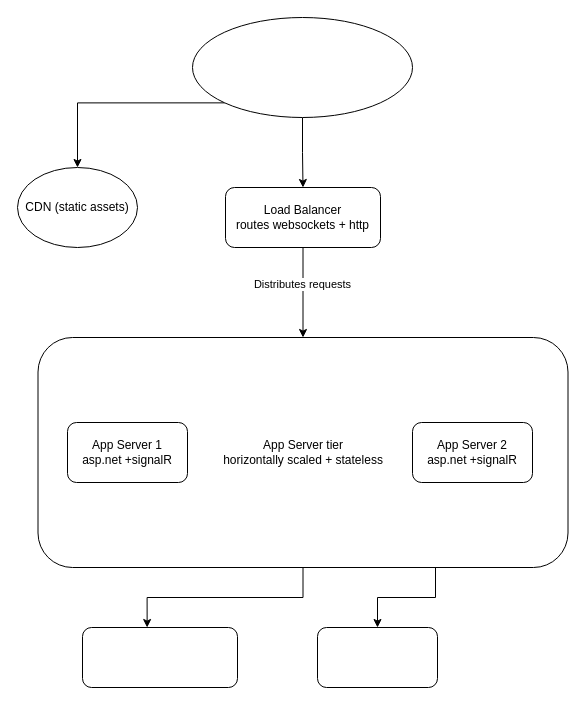
Some shapes in this 586 by 705 pixel diagram are drawn without their labels. Each missing label, with the centre of its shape:
Browser Clients: the point at 302,67
LLM provider BYO key: the point at 377,657
Redis roomstate + backplane: the point at 160,657
